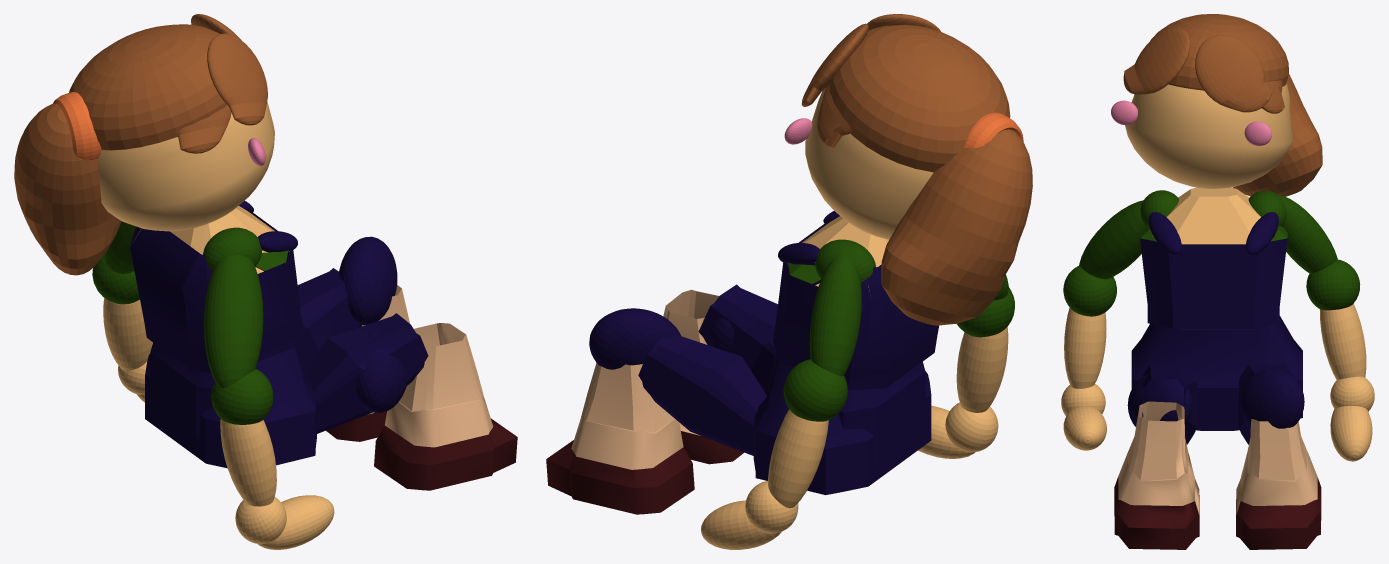
File: sittng ponytail girl.fbx
3 views of the same model, side by side, from view 1: azimuth 30°, elevation 25°; view 2: azimuth 150°, elevation 25°; view 3: azimuth 270°, elevation 25° (orthographic). The views are drawn at different scales.
Visible parts, largest first — view 1: Sphere.275, Sphere.281, Cube.081, Sphere.251, Cube.072, Cube.071, trousers.025, Cube.074, Sphere.290, Sphere.289, Sphere.260, Sphere.286 (+13 smaller); view 2: Sphere.251, Sphere.275, Cube.072, Cube.071, Cube.081, Sphere.281, Cube.074, trousers.025, Sphere.293, trousers.024, Sphere.289, Sphere.287 (+14 smaller); view 3: Sphere.281, Cube.071, Cube.081, trousers.025, Cube.074, Sphere.289, Sphere.277, Cube.080, Sphere.275, Sphere.251, Sphere.290, Sphere.260 (+14 smaller).
Boxes of the visible parts, x1,y1,x2,y2 form: Sphere.275: [69, 24, 227, 150]; Sphere.281: [97, 101, 274, 231]; Cube.081: [130, 208, 303, 372]; Sphere.251: [14, 103, 121, 275]; Cube.072: [297, 268, 428, 433]; Cube.071: [362, 285, 493, 447]; trousers.025: [145, 344, 316, 468]; Cube.074: [326, 411, 517, 490]; Sphere.290: [204, 255, 263, 387]; Sphere.289: [339, 236, 406, 412]; Sphere.260: [207, 33, 267, 125]; Sphere.286: [220, 419, 276, 506]; Sphere.251: [881, 129, 1032, 325]; Sphere.275: [829, 25, 1010, 172]; Cube.072: [638, 284, 777, 455]; Cube.071: [571, 289, 719, 469]; Cube.081: [773, 219, 938, 389]; Sphere.281: [805, 88, 933, 239]; Cube.074: [546, 431, 743, 514]; trousers.025: [753, 351, 931, 495]; Sphere.293: [809, 254, 861, 376]; trousers.024: [838, 361, 925, 461]; Sphere.289: [589, 302, 767, 369]; Sphere.287: [768, 409, 828, 508]; Sphere.281: [1125, 83, 1293, 188]; Cube.071: [1118, 401, 1317, 514]; Cube.081: [1140, 231, 1287, 328]; trousers.025: [1131, 316, 1302, 430]; Cube.074: [1114, 477, 1321, 549]; Sphere.289: [1127, 368, 1304, 428]; Sphere.277: [1195, 35, 1272, 112]; Cube.080: [1153, 187, 1260, 244]; Sphere.275: [1150, 14, 1288, 90]; Sphere.251: [1233, 74, 1322, 196]; Sphere.290: [1079, 200, 1150, 279]; Sphere.260: [1123, 28, 1190, 94].
Bounding box in the file's own units: 490 × 517 × 360.
